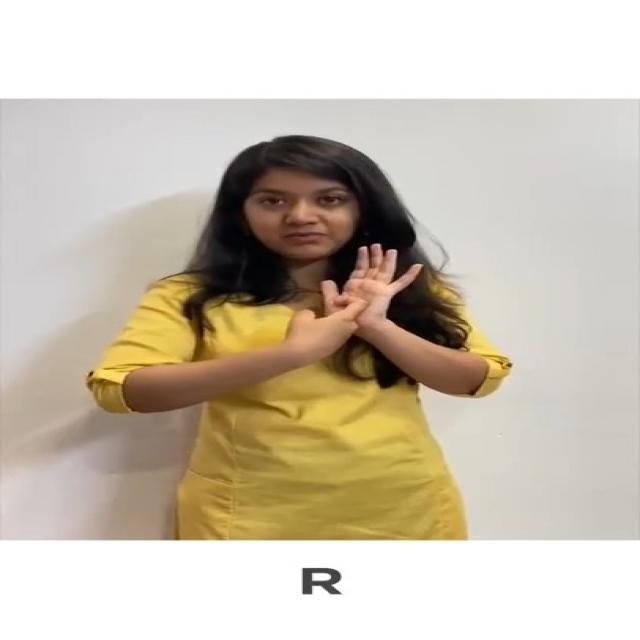R: (283, 240, 426, 378)
